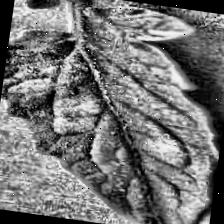leaf mold: (0, 20, 224, 224)
